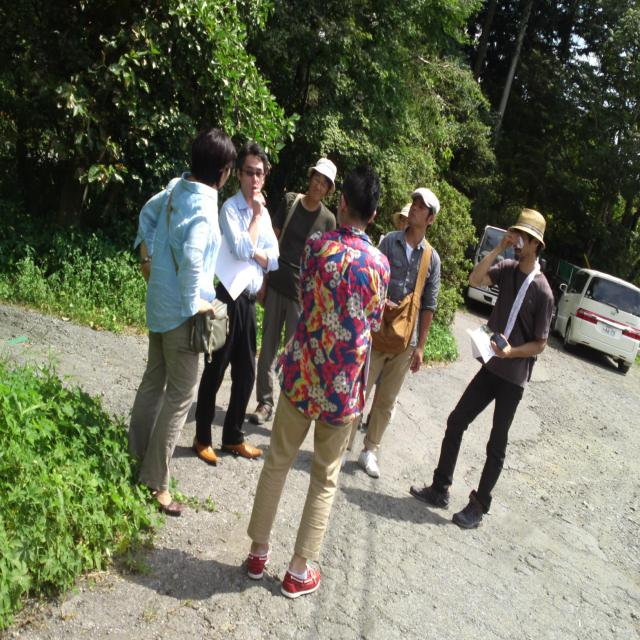body: (242, 159, 394, 603), (405, 205, 559, 530), (123, 118, 239, 520), (341, 186, 443, 478), (190, 140, 280, 467), (248, 158, 338, 426), (391, 205, 407, 232)
